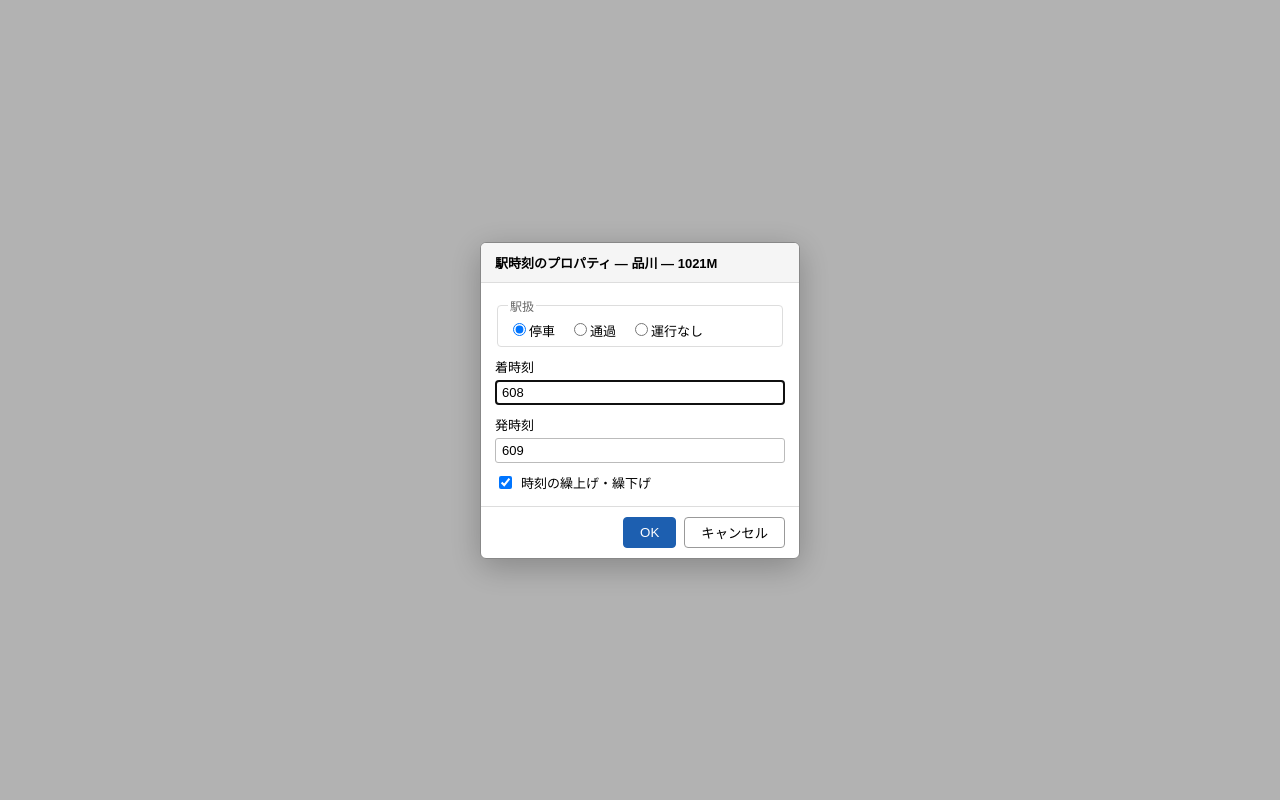
it: EkiJikokuDialog › 不正な時刻書式ではエラー表示して閉じない
Replace the text in the field labelled "着時刻" with "99999" at (640, 392), box [495,380,785,404]
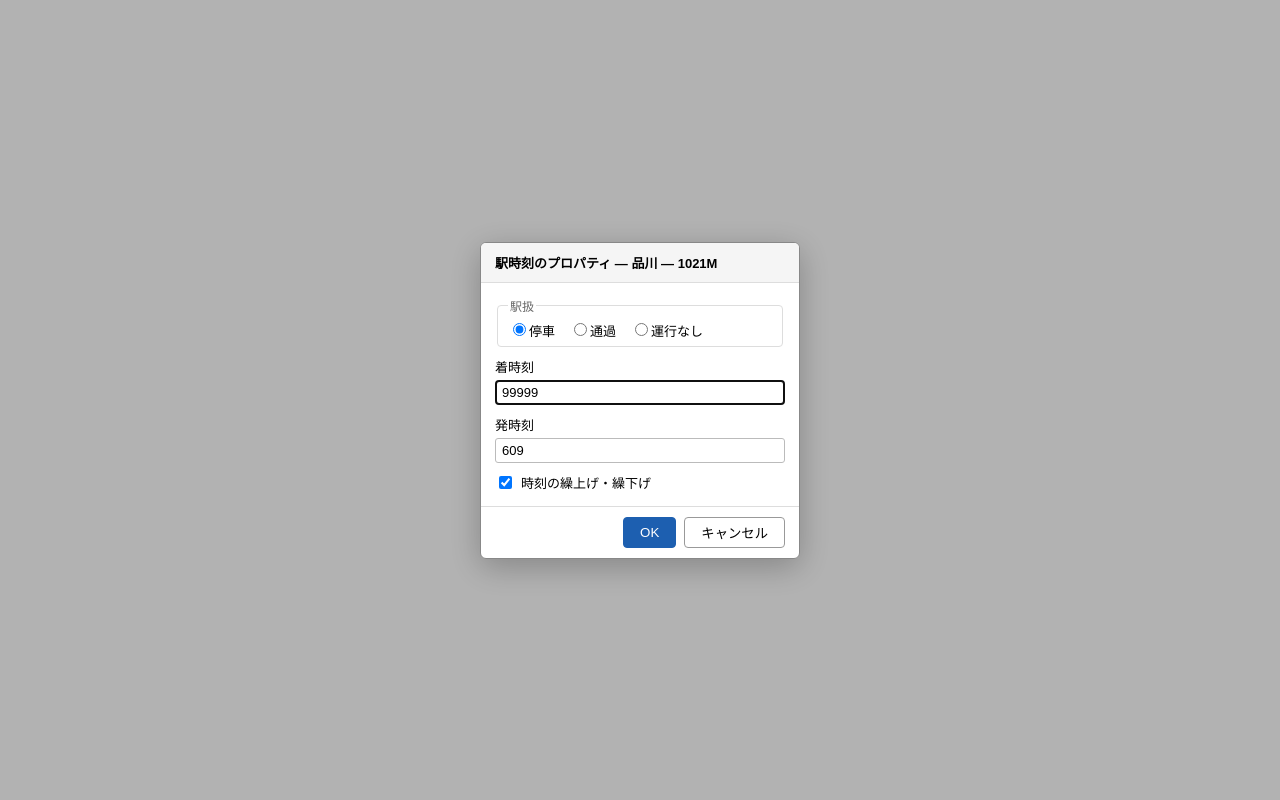
Click the button "OK" at (650, 532), box [623,516,676,548]
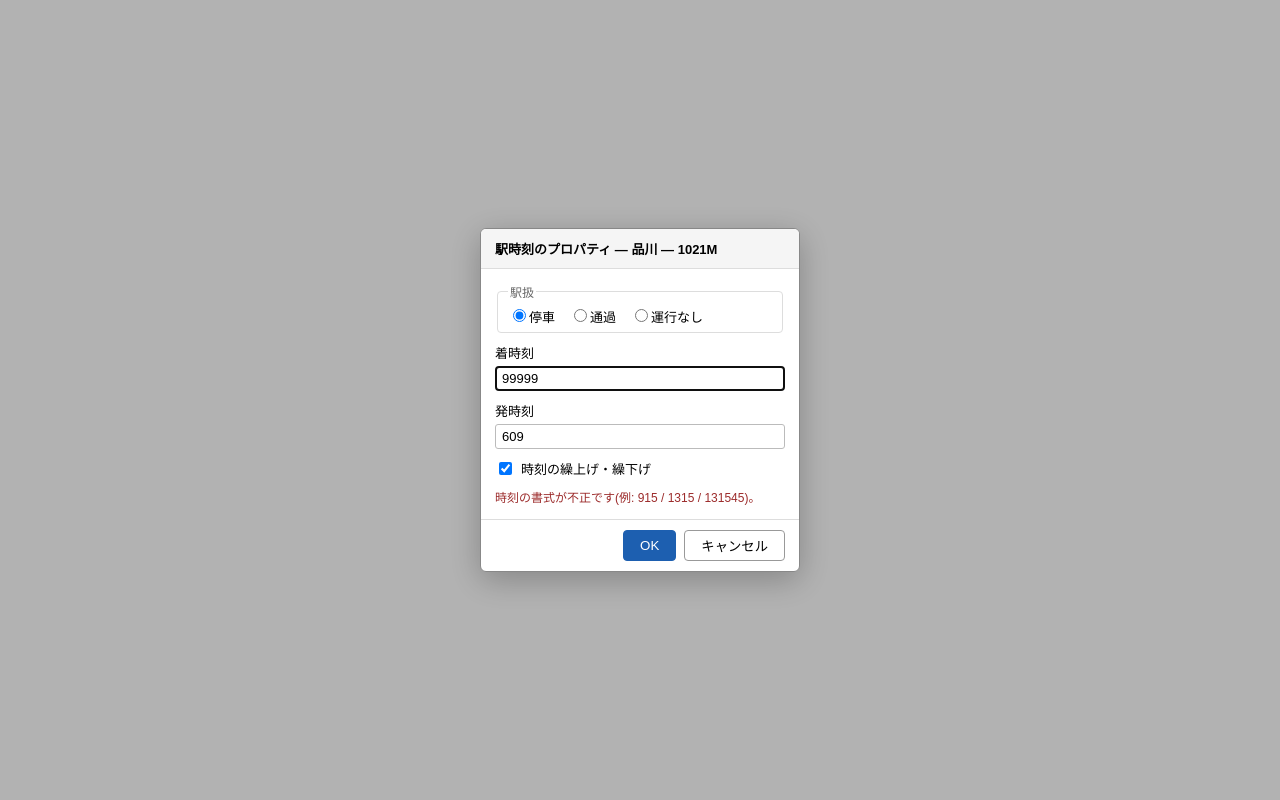
Result: the text "時刻の書式が不正です(例: 915 / 1315 / 131545)。" is shown at [495,488,785,505]
